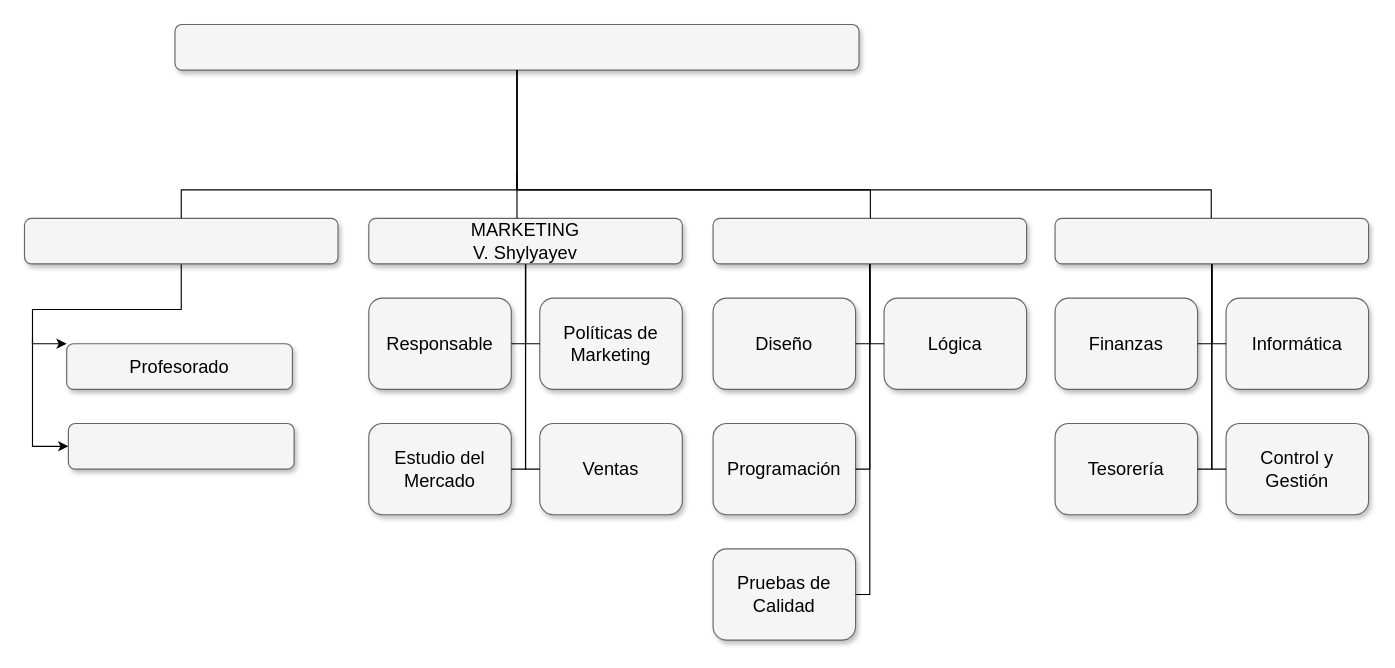
This 1395x668 diagram has some shape labels left out. Here are the shapes that lost their labels. From the top down, the centre of each, then its label:
the point at 517,48: CEO V. Shylyayev
the point at 182,242: RRHH
the point at 870,242: PRODUCCIÓN V. Shylyayev
the point at 1212,242: ADMINISTRACIÓN V. Shylyayev
the point at 182,447: V. Shylyayev
